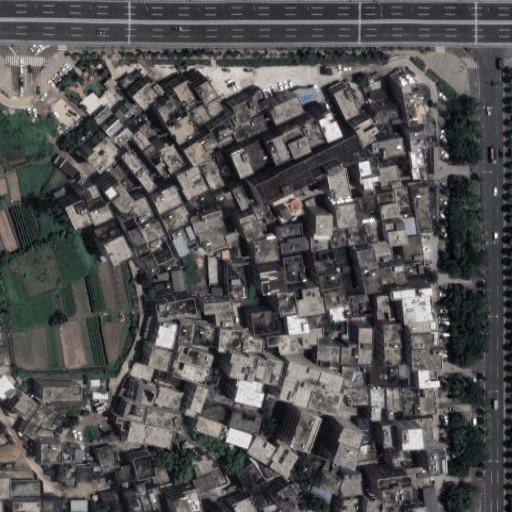building: (253, 136, 367, 205), (119, 149, 158, 194), (23, 402, 60, 440), (85, 136, 122, 173), (283, 407, 314, 449), (268, 93, 306, 126), (206, 112, 244, 145), (170, 74, 203, 111), (154, 93, 188, 127), (256, 258, 285, 297), (411, 186, 434, 235), (184, 134, 218, 167), (401, 82, 427, 125), (167, 113, 200, 146), (132, 79, 165, 111), (63, 199, 94, 233), (142, 145, 172, 180), (307, 387, 343, 416), (155, 296, 198, 320), (152, 184, 185, 215), (244, 138, 273, 173), (333, 85, 361, 121), (228, 353, 260, 384), (155, 143, 187, 174), (239, 465, 270, 497), (263, 134, 293, 167), (102, 233, 132, 265), (160, 205, 193, 234), (6, 393, 40, 421), (247, 436, 279, 465), (172, 361, 209, 386), (227, 147, 255, 180), (212, 150, 238, 185), (99, 84, 129, 114), (233, 379, 265, 407), (317, 113, 345, 145), (227, 261, 249, 301), (146, 407, 182, 431), (402, 297, 434, 324), (113, 182, 139, 215), (290, 327, 324, 352), (295, 288, 325, 316), (383, 326, 404, 366), (254, 357, 284, 385), (236, 114, 267, 141), (204, 302, 234, 329), (198, 227, 228, 254), (280, 255, 307, 285), (248, 307, 278, 334), (302, 117, 327, 149), (336, 248, 356, 288), (229, 410, 262, 434), (77, 91, 105, 119), (333, 443, 362, 470), (239, 213, 265, 243), (144, 425, 175, 450), (200, 160, 225, 191), (213, 192, 240, 220), (155, 386, 185, 411), (354, 117, 379, 147), (286, 362, 320, 384), (88, 202, 116, 228), (195, 417, 228, 439), (314, 470, 343, 495), (168, 228, 192, 258), (328, 167, 350, 199), (177, 344, 214, 363), (133, 454, 159, 481), (139, 218, 165, 245), (336, 426, 365, 450), (156, 321, 179, 351), (176, 353, 212, 372), (115, 100, 141, 126), (313, 249, 339, 275), (149, 237, 174, 264), (287, 136, 314, 161), (194, 79, 219, 106), (413, 349, 443, 371), (92, 105, 118, 130), (233, 98, 259, 123), (273, 445, 299, 470), (230, 185, 254, 212), (225, 427, 253, 450), (316, 371, 344, 394), (188, 384, 209, 414), (218, 328, 243, 353), (192, 322, 216, 348), (177, 166, 203, 190), (253, 237, 279, 261), (384, 220, 408, 246), (373, 138, 404, 158), (391, 287, 434, 301), (97, 445, 121, 470), (335, 203, 359, 228), (340, 473, 365, 497), (129, 362, 155, 385), (95, 219, 121, 242), (402, 236, 424, 263), (362, 269, 383, 297), (292, 380, 313, 408), (358, 327, 373, 366), (381, 486, 415, 503), (125, 401, 149, 425), (135, 382, 159, 406), (82, 185, 105, 210), (85, 373, 108, 398), (176, 317, 197, 344), (377, 474, 410, 491), (148, 484, 168, 512), (278, 376, 298, 404), (149, 347, 173, 370), (188, 104, 211, 128), (287, 313, 311, 336), (357, 248, 380, 272), (193, 215, 222, 234), (43, 387, 82, 401), (428, 450, 449, 476), (394, 186, 414, 213), (0, 432, 19, 460), (112, 127, 135, 150), (104, 117, 127, 140), (356, 196, 378, 220), (397, 425, 419, 449), (342, 366, 366, 388), (113, 463, 138, 484), (183, 180, 208, 201), (277, 292, 298, 317), (327, 306, 353, 326), (171, 269, 188, 299), (140, 253, 161, 277), (127, 226, 148, 250), (403, 387, 421, 415), (133, 196, 153, 221), (267, 334, 292, 354), (319, 344, 341, 366), (297, 84, 320, 105), (192, 461, 222, 477), (281, 125, 305, 145), (363, 219, 383, 243), (276, 223, 304, 240), (391, 451, 416, 470), (206, 98, 227, 120), (406, 130, 427, 152), (170, 492, 193, 512), (322, 290, 346, 309), (314, 213, 333, 237), (0, 377, 17, 403), (421, 389, 438, 415), (418, 418, 435, 444), (273, 491, 294, 512), (195, 474, 217, 494), (127, 422, 147, 444), (58, 160, 80, 180), (406, 467, 428, 487), (319, 272, 342, 291), (411, 332, 434, 351), (417, 369, 440, 388), (137, 483, 152, 512), (250, 88, 268, 112), (271, 191, 296, 208), (345, 388, 370, 405), (311, 486, 336, 503), (76, 465, 97, 485), (132, 131, 152, 152), (285, 197, 305, 218), (329, 227, 349, 248), (282, 485, 301, 507), (375, 109, 401, 125), (150, 281, 174, 298), (42, 443, 61, 464), (382, 426, 399, 449), (341, 343, 358, 366), (387, 387, 403, 411), (347, 225, 366, 245), (380, 202, 401, 220), (269, 460, 291, 477), (188, 488, 203, 512), (310, 235, 330, 253), (357, 418, 372, 442), (196, 209, 223, 222), (110, 164, 128, 183), (291, 236, 310, 254), (370, 365, 388, 384), (213, 470, 230, 490), (380, 166, 400, 183), (277, 202, 293, 223), (232, 498, 256, 512), (376, 239, 391, 261), (407, 321, 432, 334), (207, 257, 219, 284), (405, 261, 424, 278), (98, 489, 118, 505), (243, 338, 264, 353), (340, 497, 361, 512), (308, 314, 330, 328), (224, 231, 242, 248), (411, 166, 429, 183), (370, 389, 387, 407), (392, 265, 408, 284), (409, 150, 425, 169), (380, 266, 395, 286), (122, 214, 139, 231), (104, 184, 121, 201), (322, 460, 340, 476), (14, 501, 40, 512), (376, 294, 391, 313), (128, 492, 142, 512), (363, 79, 383, 93), (361, 176, 380, 190), (40, 501, 64, 512), (376, 192, 396, 205), (141, 122, 156, 139), (192, 454, 211, 467), (347, 294, 367, 306), (404, 218, 417, 236), (116, 417, 131, 432), (359, 162, 373, 178), (184, 224, 196, 242), (371, 90, 389, 102), (58, 464, 72, 479), (137, 244, 152, 258), (371, 156, 381, 177), (260, 466, 274, 481), (346, 285, 364, 296), (119, 74, 133, 88), (122, 177, 136, 191), (0, 364, 13, 379), (157, 271, 173, 283), (281, 242, 293, 258), (398, 365, 410, 381), (71, 501, 88, 512), (365, 501, 382, 512), (184, 409, 200, 420), (370, 407, 381, 422), (381, 505, 404, 512), (188, 447, 201, 459), (129, 70, 142, 82), (52, 155, 64, 167), (54, 187, 67, 198), (291, 481, 302, 494), (181, 441, 195, 451), (232, 245, 242, 258), (401, 211, 415, 220), (362, 188, 376, 197), (405, 506, 426, 512), (102, 79, 113, 90), (75, 449, 83, 463), (212, 287, 224, 296), (62, 479, 75, 487), (432, 331, 440, 344), (355, 314, 368, 322), (61, 453, 72, 462), (377, 312, 389, 320), (390, 181, 401, 189), (399, 174, 410, 181), (222, 250, 230, 259), (92, 466, 102, 473), (388, 311, 395, 321), (115, 487, 124, 494), (431, 321, 437, 330), (389, 411, 394, 420), (381, 182, 387, 189), (432, 350, 440, 355), (72, 460, 75, 467)
